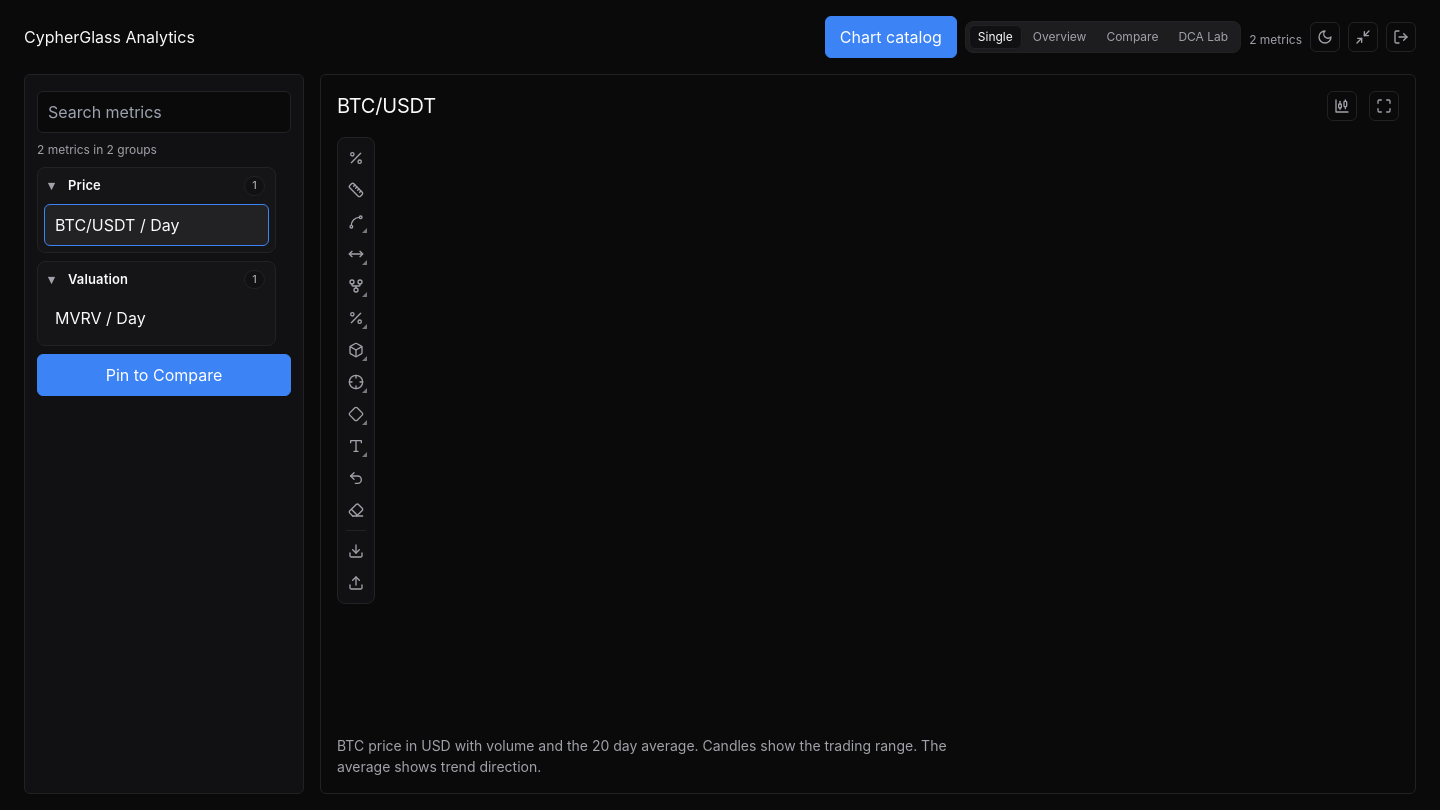
Test: Dashboard QFChart integration › renders a single card: price hero for price metrics, onchain card otherwise
Check: the number of elements named "Drawing tools" is 1, box left=337, top=137, right=375, bottom=604
Check: the number of buttons named "export drawings" is 1, box left=342, top=537, right=370, bottom=565
Switch to an onchain metric: hero unmounts, onchain card mounts.
What coordinates should you click on to do the following:
click the button "MVRV / Day"
I would click on:
 (156, 318)
Its box is left=44, top=297, right=269, bottom=339.
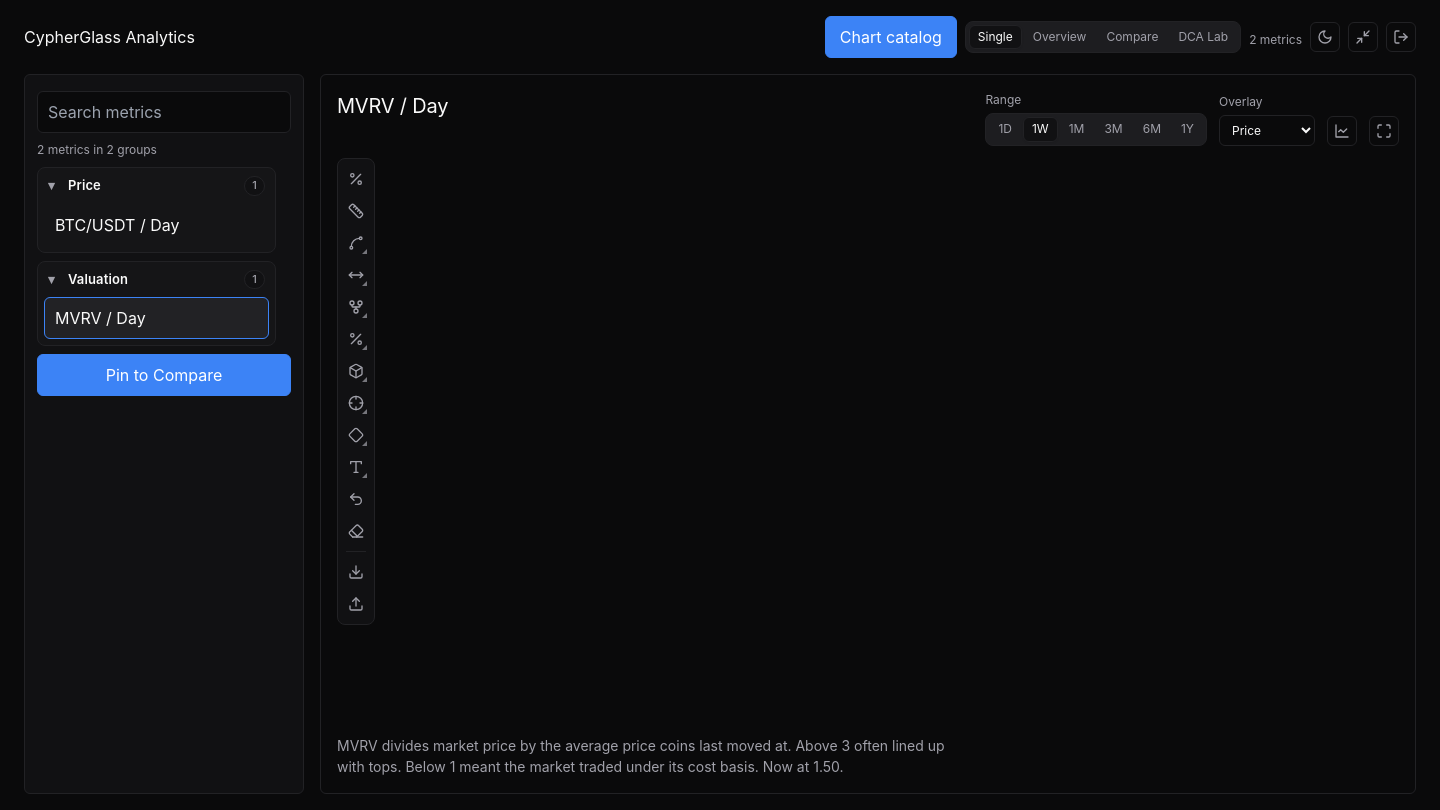
Check: the number of elements named "Drawing tools" is 1, box left=337, top=158, right=375, bottom=625
Check: the picture with test id "price-chart" is gone
